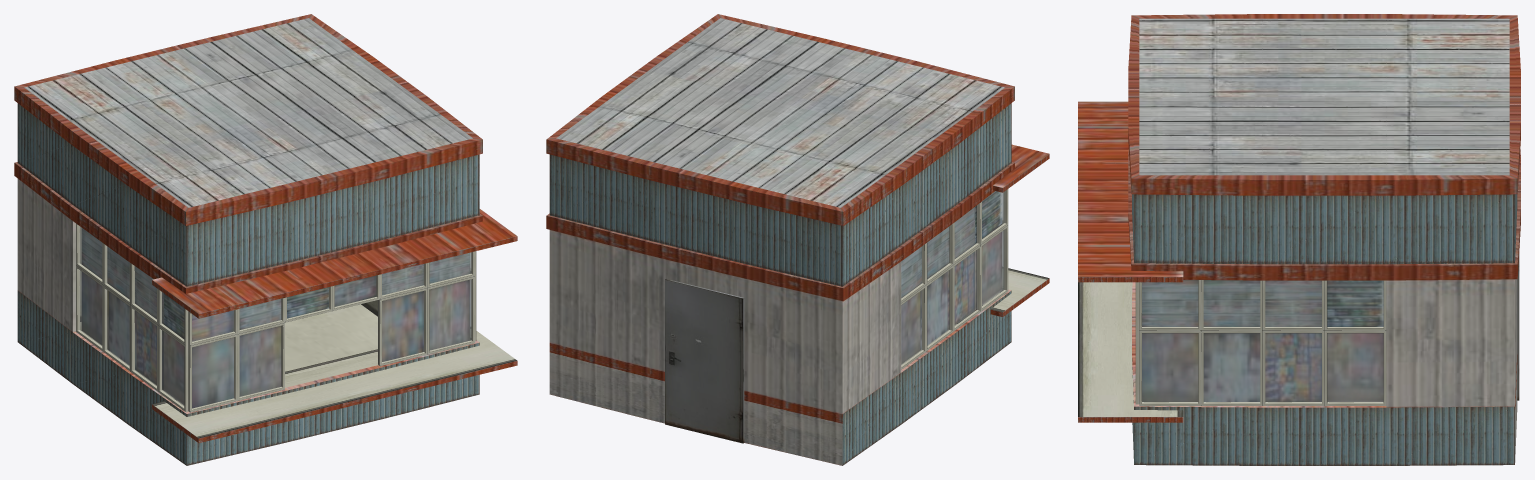
Rendered from shop-kiosk.glb.
3 views of the same model, side by side, from view 1: azimuth 30°, elevation 25°; view 2: azimuth 150°, elevation 25°; view 3: azimuth 270°, elevation 25° (orthographic). The views are drawn at different scales.
Parts seen in each view (by area): view 1: Object_6, Object_3, Object_4, Object_8, Object_7, Object_2; view 2: Object_4, Object_6, Object_3, Object_5, Object_8, Object_7, Object_2; view 3: Object_6, Object_3, Object_4, Object_7, Object_8, Object_2.
Part boxes in pixels (x1,y1,x2,y2): Object_6: (24,18,472,207); Object_3: (17,103,479,465); Object_4: (14,14,517,442); Object_8: (80,226,471,408); Object_7: (81,228,470,408); Object_2: (76,223,516,438); Object_4: (546,14,1049,465); Object_6: (556,18,1004,207); Object_3: (549,103,1011,465); Object_5: (665,279,744,443); Object_8: (901,191,1004,364); Object_7: (901,191,1002,363); Object_2: (901,189,1048,369); Object_6: (1139,18,1509,175); Object_3: (1132,194,1517,465); Object_4: (1078,14,1520,462); Object_7: (1142,280,1383,401); Object_8: (1142,280,1383,401); Object_2: (1078,280,1386,416).
Bounding box in the file's own units: 5.59 × 4.28 × 5.98.
7 materials, 7 textured.
